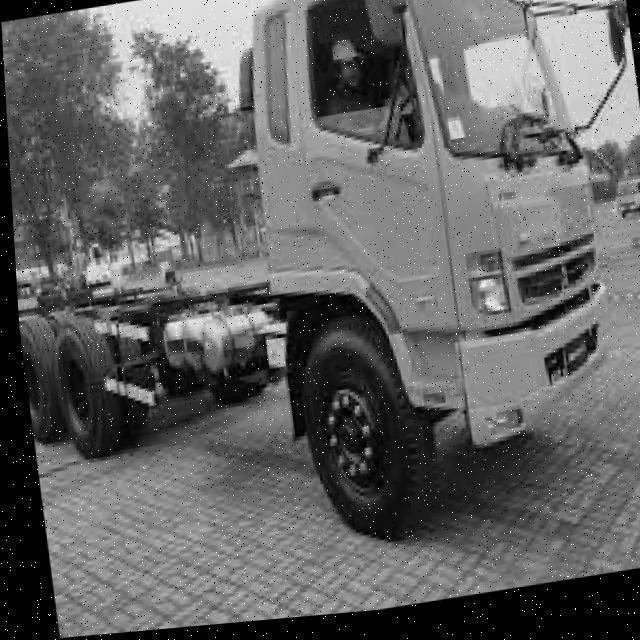truck: (206, 1, 640, 500)
